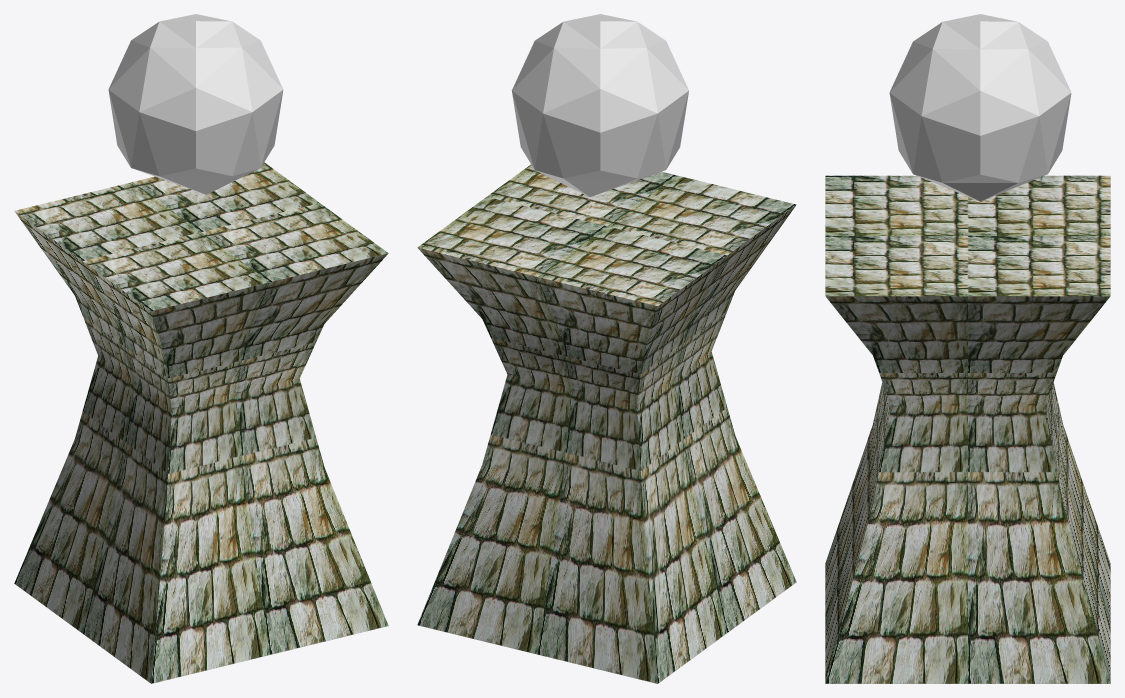
The model's file is BurningTower.FBX.
3 views of the same model, side by side, from view 1: azimuth 30°, elevation 25°; view 2: azimuth 150°, elevation 25°; view 3: azimuth 270°, elevation 25° (orthographic). The views are drawn at different scales.
Parts seen in each view (by area): view 1: Box001, GeoSphere001; view 2: Box001, GeoSphere001; view 3: Box001, GeoSphere001.
Part boxes in pixels (x1,y1,x2,y2): Box001: (14, 162, 388, 683); GeoSphere001: (108, 14, 283, 194); Box001: (417, 164, 796, 683); GeoSphere001: (511, 14, 688, 196); Box001: (825, 175, 1110, 683); GeoSphere001: (889, 14, 1071, 201).
Bounding box in the file's own units: 2 × 4.66 × 2.
Materials: 1 (1 with a texture image).
